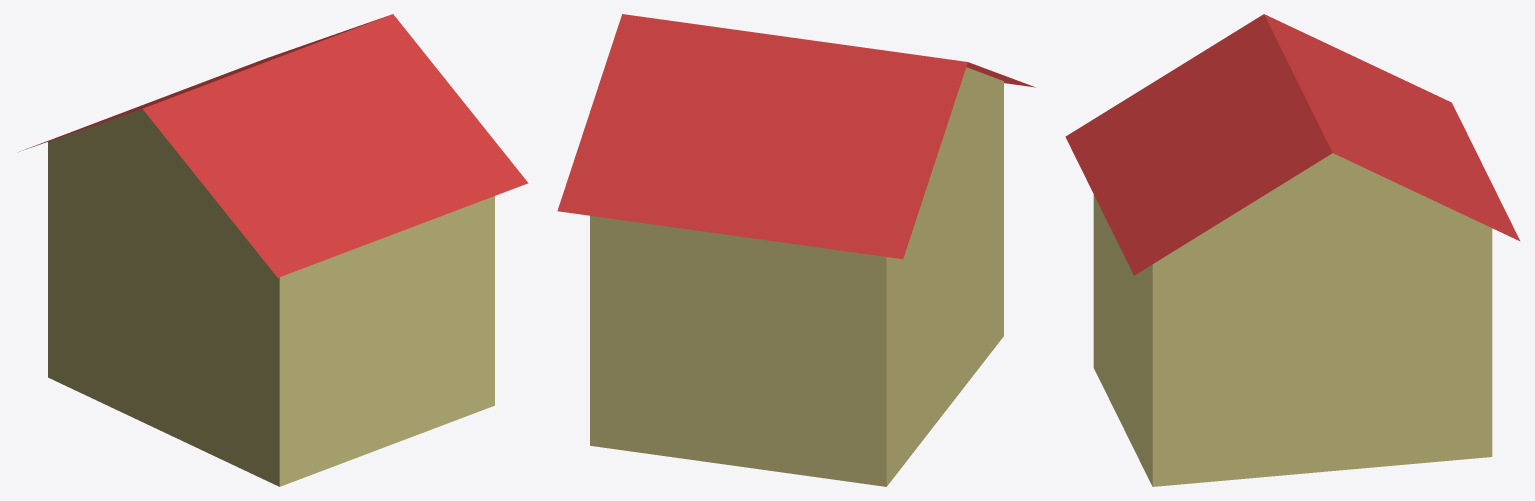
The picture shows the model from 3 angles, left to right: view 1: azimuth 30°, elevation 25°; view 2: azimuth 150°, elevation 25°; view 3: azimuth 270°, elevation 25°; orthographic projection. The views are drawn at different scales.
Size of the model in its own units: 12.9 by 14.32 by 11.39.
